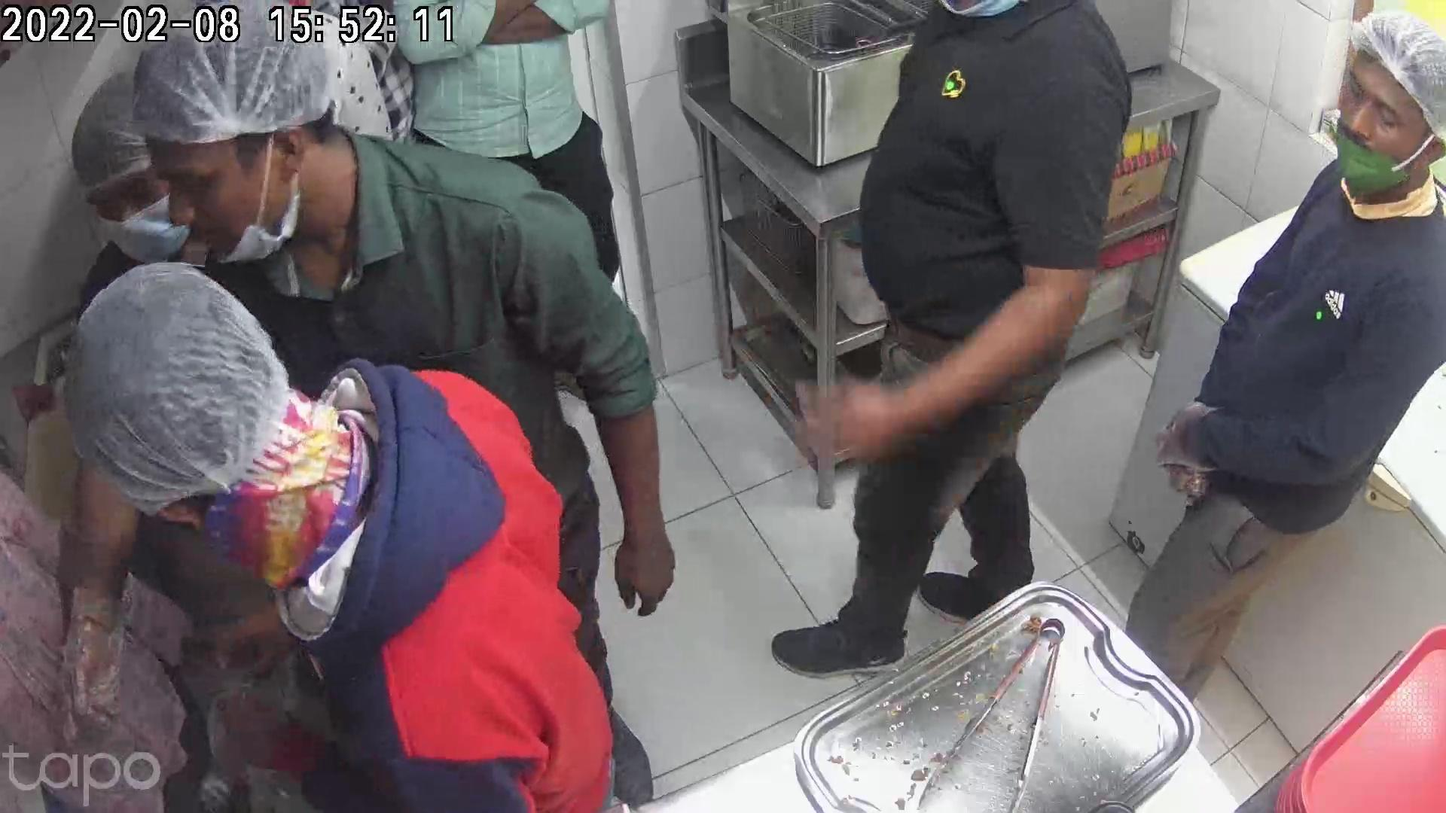no_gloves: (614, 485, 674, 620)
